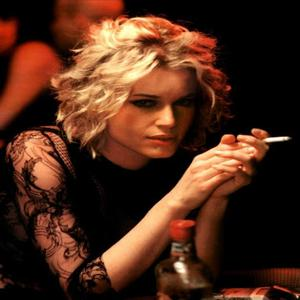cigarette: (238, 133, 291, 148)
